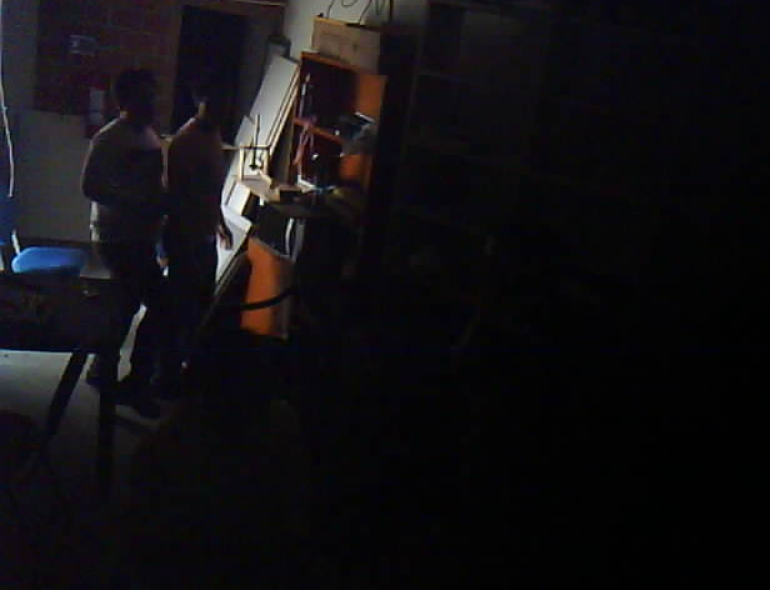person: (36, 50, 165, 444), (141, 69, 253, 418)
